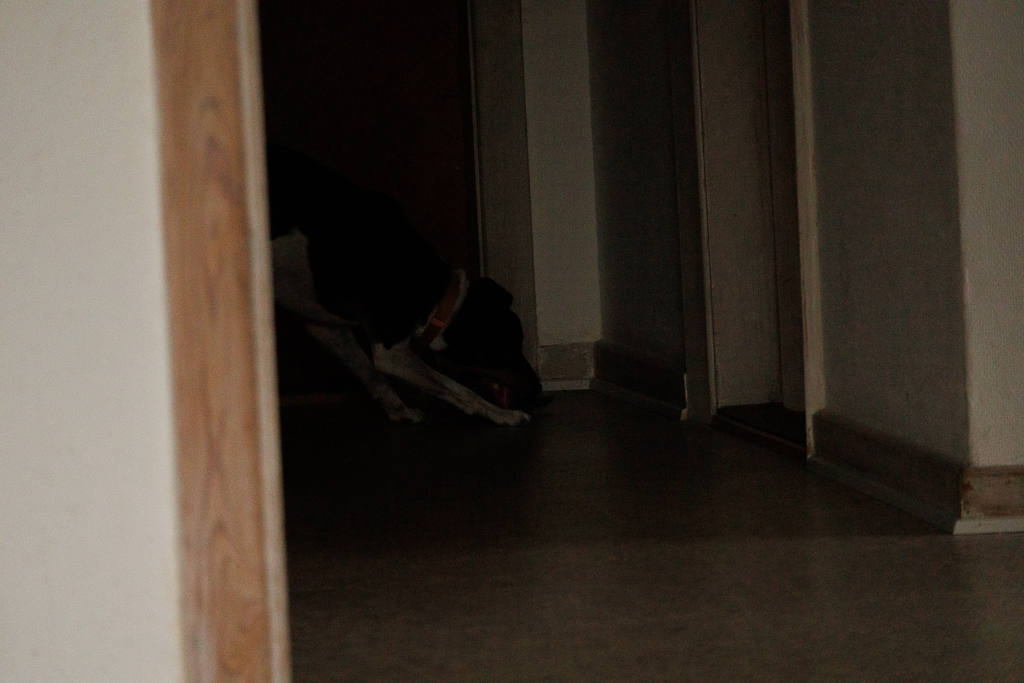Dog: (266, 198, 548, 442)
Humanoid: (463, 375, 534, 416)
